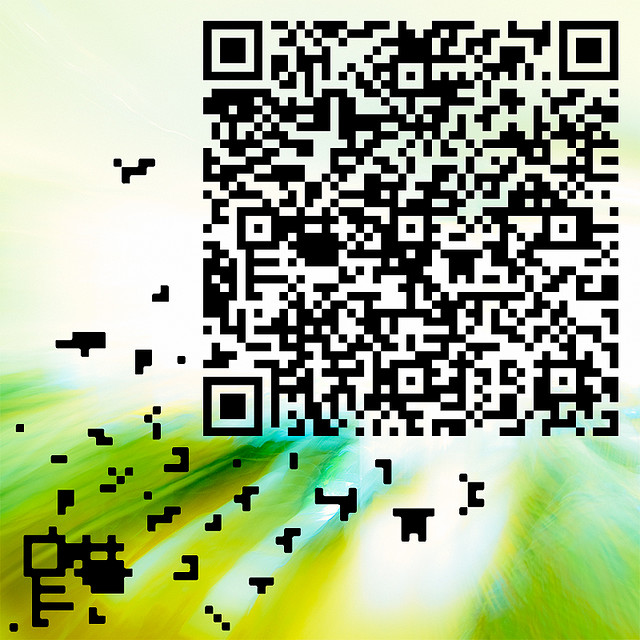QR-CODE: (203, 21, 617, 435)
